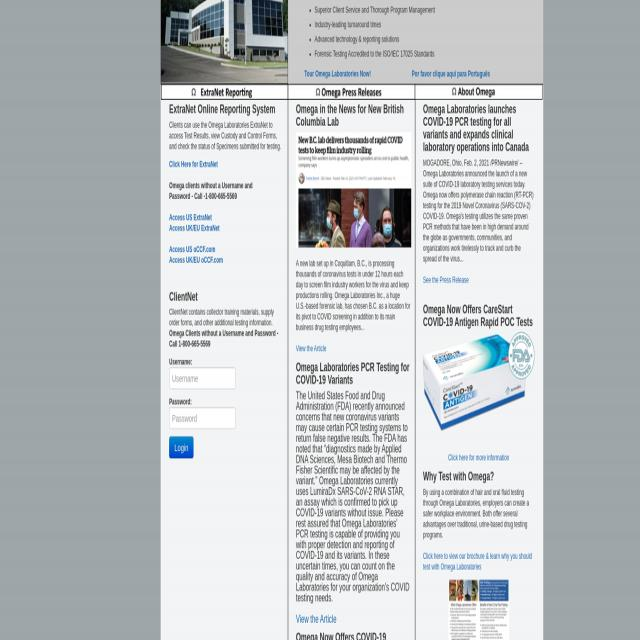button: (296, 132, 411, 247), (423, 332, 535, 431), (161, 0, 288, 84), (449, 577, 509, 640), (161, 84, 289, 100), (415, 84, 543, 100), (288, 84, 415, 100), (169, 437, 193, 458)
field: (169, 407, 236, 429), (169, 368, 236, 389)
